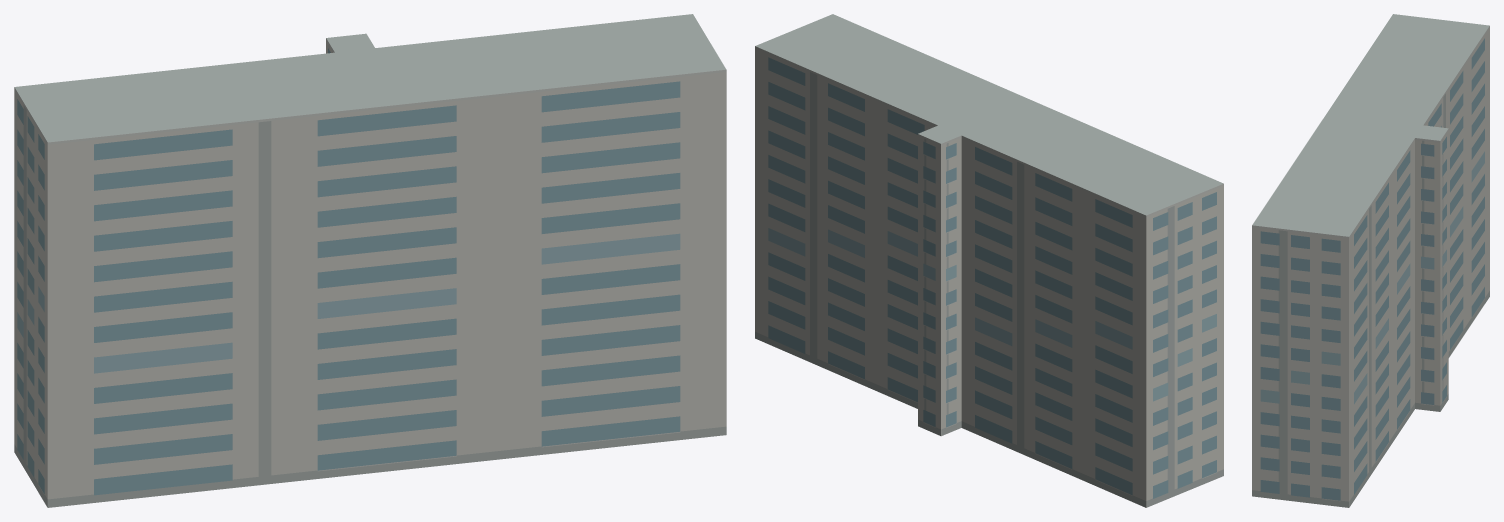
Rendered from residential-d3f9ed09-af70-48b6-86f5-5fceb8e64ba1.glb.
The picture shows the model from 3 angles, left to right: view 1: azimuth 30°, elevation 25°; view 2: azimuth 150°, elevation 25°; view 3: azimuth 270°, elevation 25°; orthographic projection. The views are drawn at different scales.
Parts seen in each view (by area): view 1: residential-d3f9ed09-af70-48b6-86f5-5fceb8e64ba1.tmp; view 2: residential-d3f9ed09-af70-48b6-86f5-5fceb8e64ba1.tmp; view 3: residential-d3f9ed09-af70-48b6-86f5-5fceb8e64ba1.tmp.
Boxes of the visible parts, bbox=[...] form: residential-d3f9ed09-af70-48b6-86f5-5fceb8e64ba1.tmp: bbox=[14, 14, 726, 507]; residential-d3f9ed09-af70-48b6-86f5-5fceb8e64ba1.tmp: bbox=[755, 14, 1223, 507]; residential-d3f9ed09-af70-48b6-86f5-5fceb8e64ba1.tmp: bbox=[1252, 14, 1489, 507].
Bounding box in the file's own units: 64.54 × 36.6 × 29.11.
